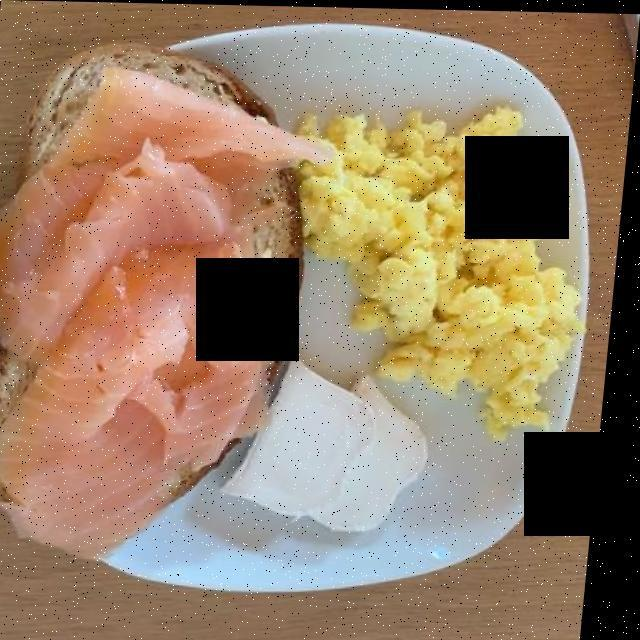bread: (43, 49, 344, 496)
cheese: (220, 358, 442, 558)
eggs: (304, 113, 589, 429)
salmon: (0, 47, 294, 546)
